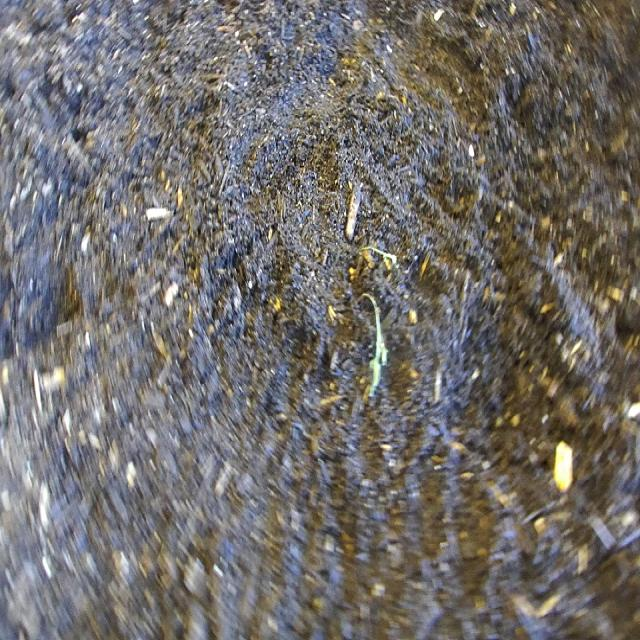Unhealthy: (360, 286, 391, 408)
